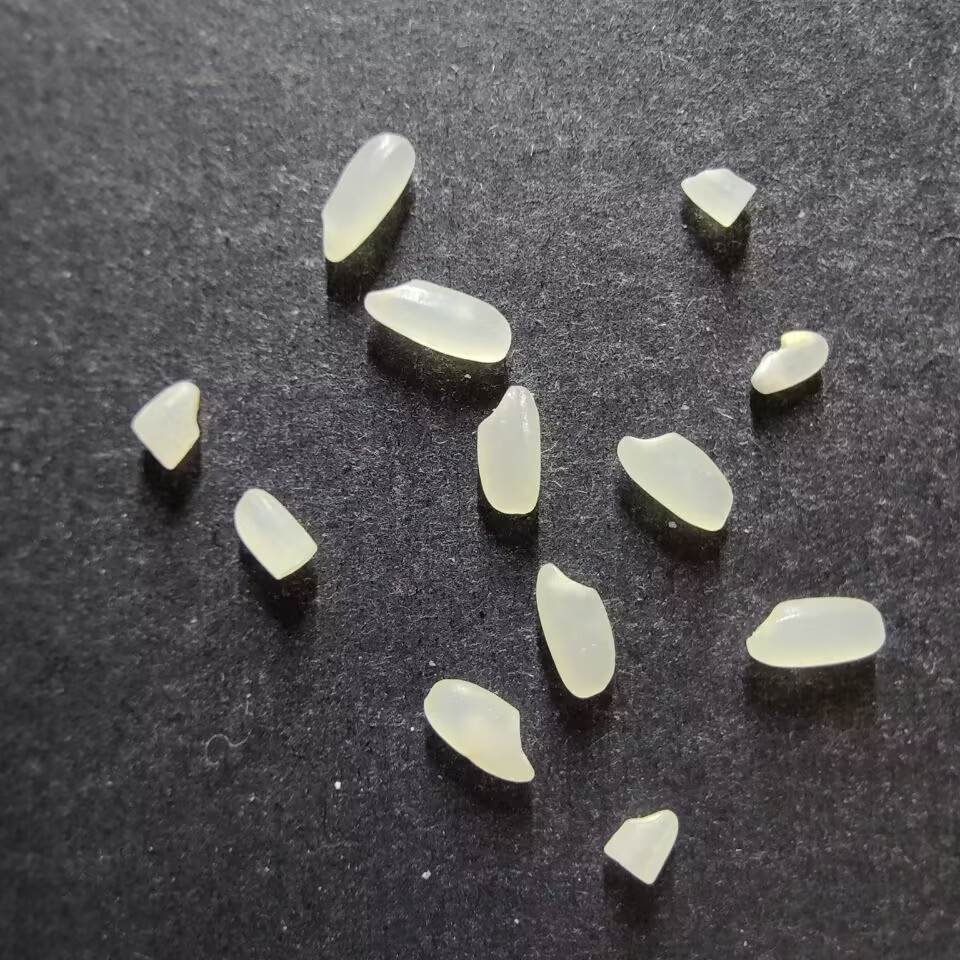broken: (233, 487, 319, 580), (131, 379, 200, 471), (602, 807, 679, 885), (750, 329, 829, 394), (680, 167, 757, 228)
rice: (363, 279, 512, 363), (320, 132, 415, 263), (422, 677, 536, 784), (617, 432, 733, 532), (535, 562, 616, 698), (745, 595, 886, 668), (475, 384, 542, 515)
